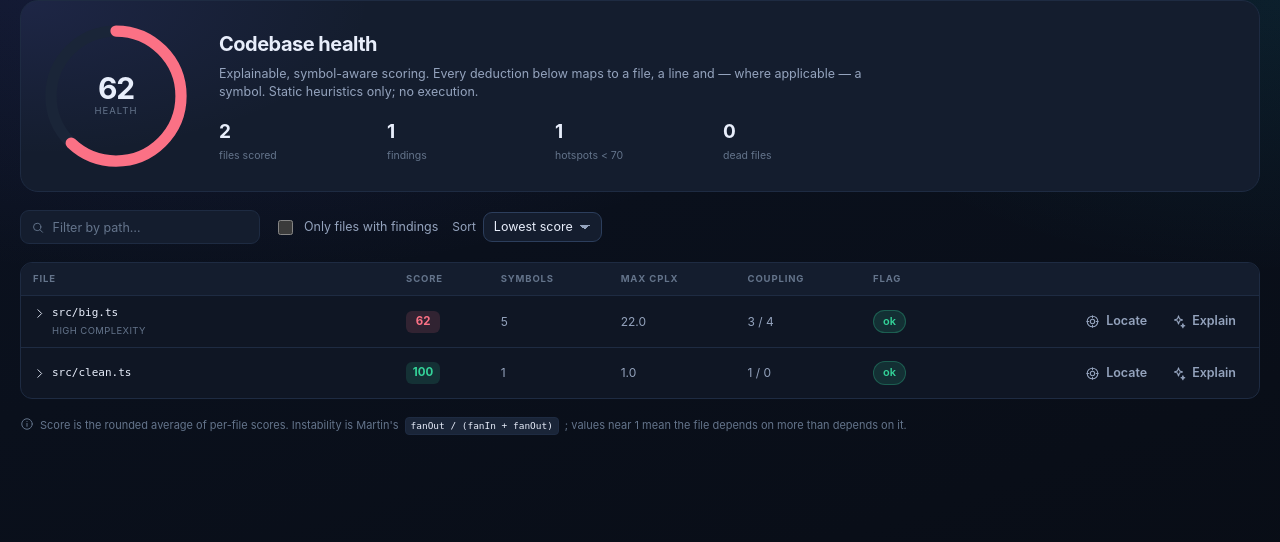
<HealthDashboard /> › expands a file to reveal its located findings
Click the button "src/big.ts".
click(76, 314)  # box left=33, top=305, right=118, bottom=322
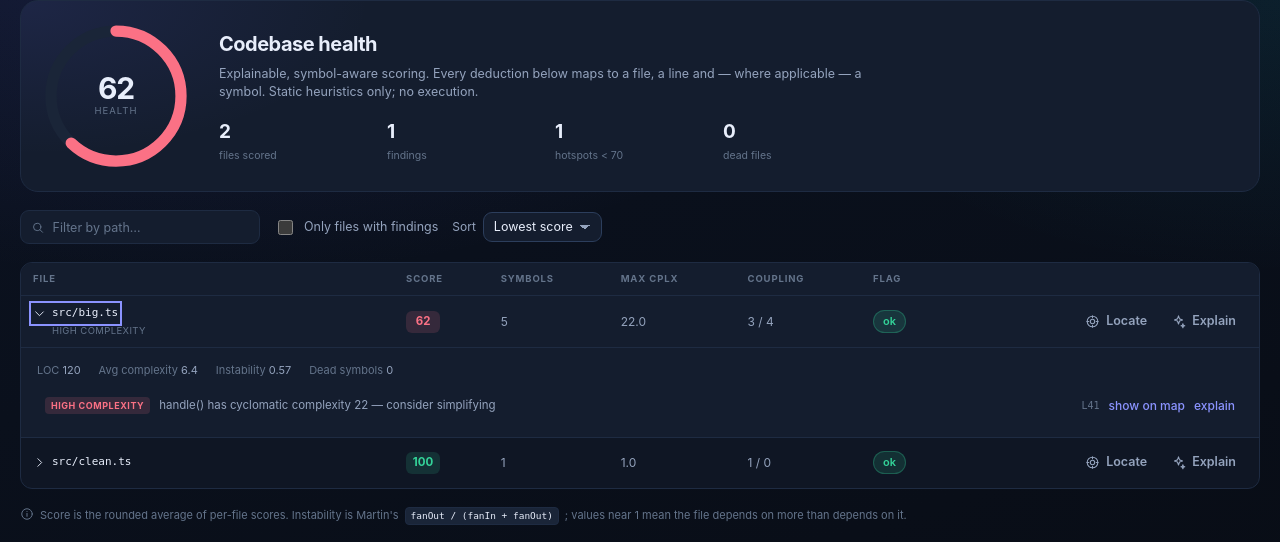
Now the text "handle() has cyclomatic complexity 22 — consider simplifying" is shown, box left=159, top=398, right=496, bottom=412
Now the text "L41" is shown, box left=1082, top=398, right=1100, bottom=413
